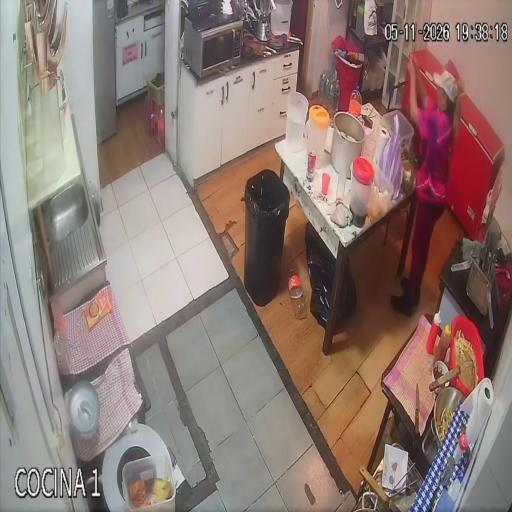Basurero: (244, 169, 290, 306)
Cuchillo1: (415, 383, 420, 435)
Envase Ketchup: (426, 313, 441, 354)
Envase Llajua: (435, 325, 451, 362)
Jarra1: (350, 157, 374, 227)
Jarra2: (304, 105, 330, 168)
Jarra3: (285, 92, 308, 152)
Microondas: (183, 18, 243, 77)
Persona2: (391, 57, 461, 316)
Tapa de olla: (68, 381, 100, 439)
Taper: (121, 444, 176, 512)
Taper2: (381, 110, 414, 148)
Taper4: (368, 174, 394, 221)
Vaso1: (322, 173, 330, 196)
olla1: (330, 111, 364, 179)
